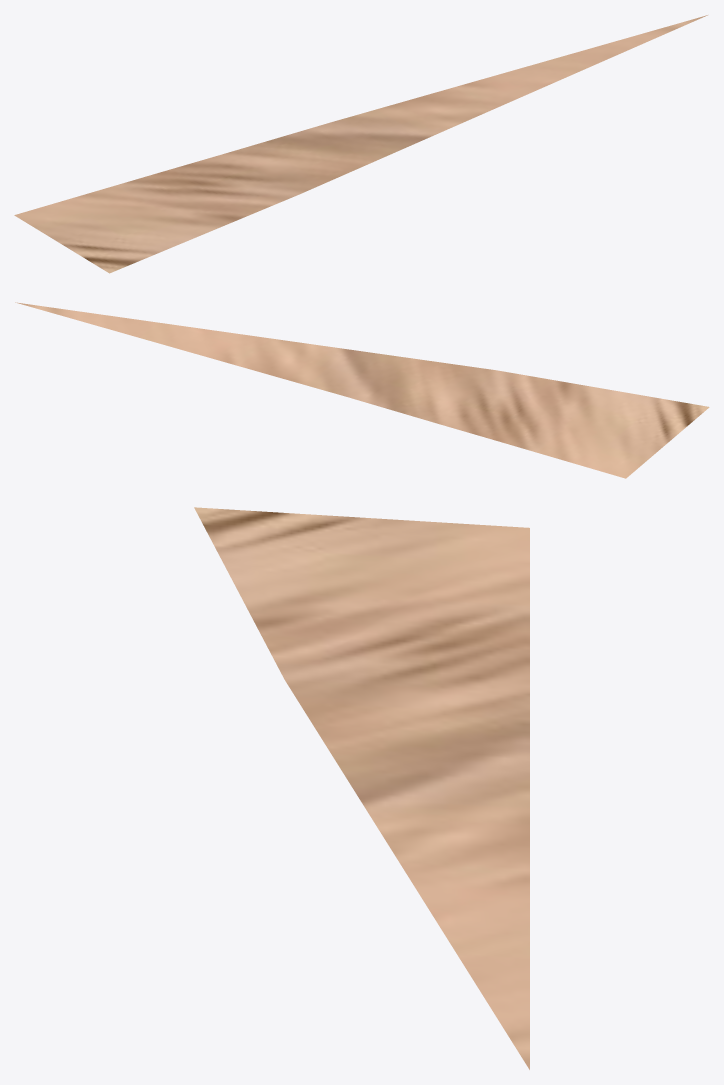
The picture shows the model from 3 angles, top to bottom: view 1: azimuth 30°, elevation 25°; view 2: azimuth 150°, elevation 25°; view 3: azimuth 270°, elevation 25°; orthographic projection. The views are drawn at different scales.
Size of the model in its own units: 0.3972 by 0.0169 by 0.0945.
1 material, 1 textured.
